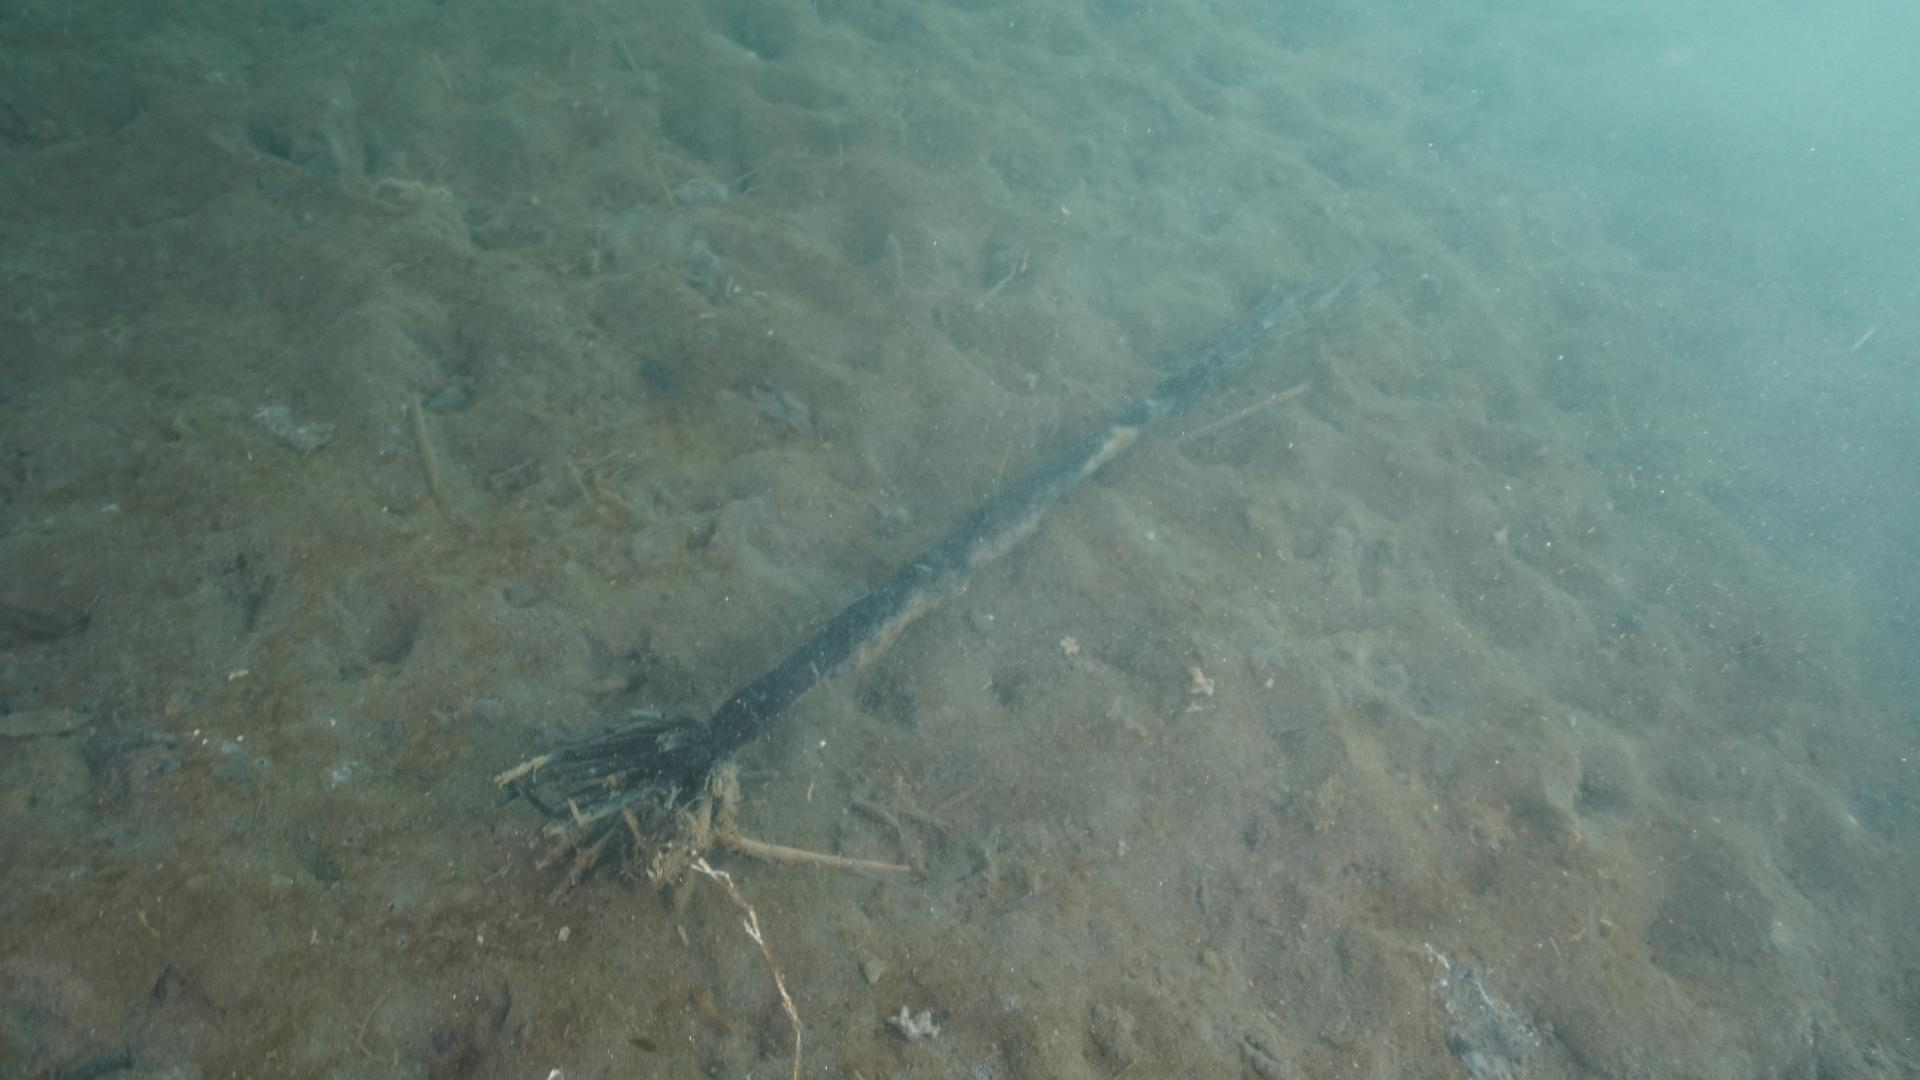wood: (492, 280, 1345, 907)
